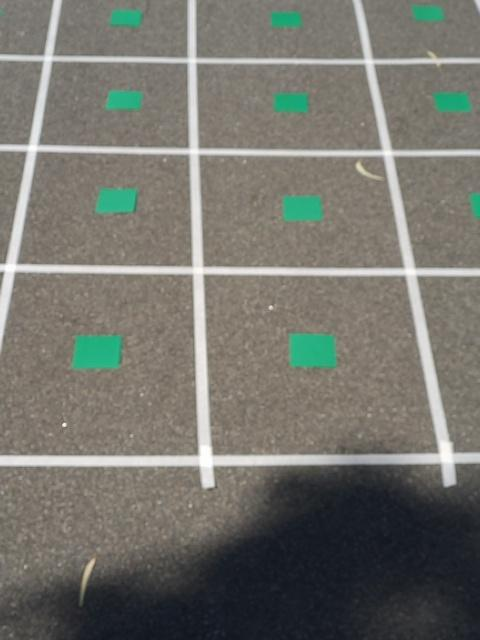weed: (68, 330, 123, 377), (288, 328, 336, 371), (92, 184, 139, 218), (281, 191, 323, 226), (431, 88, 474, 116), (103, 84, 142, 113), (272, 89, 309, 118), (268, 7, 304, 31), (108, 7, 141, 31), (410, 3, 442, 26), (472, 191, 480, 216)
